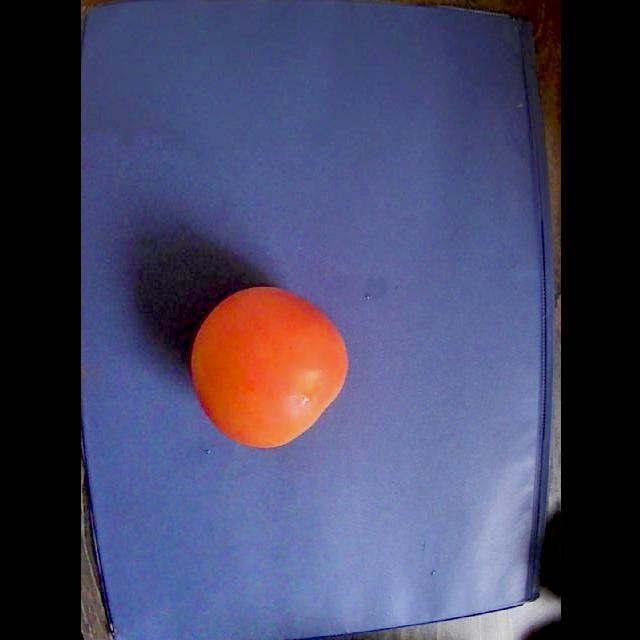tomate: (191, 287, 347, 447)
